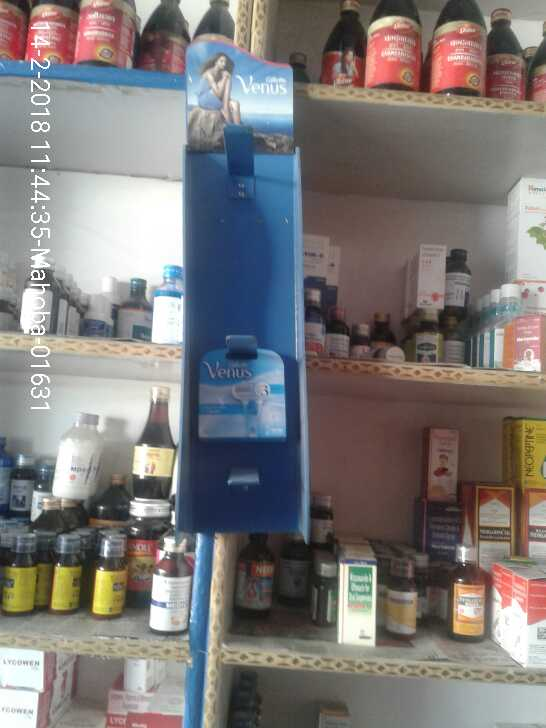beauty: (195, 347, 296, 447)
